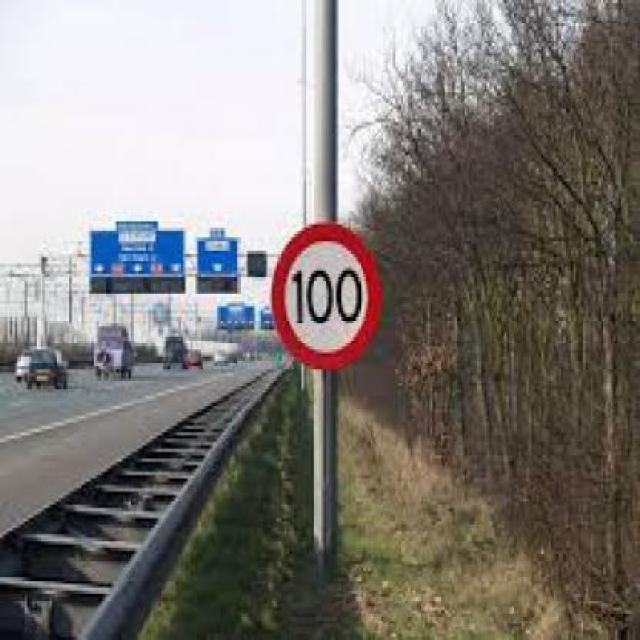forb_speed_over_100: (275, 222, 379, 369)
